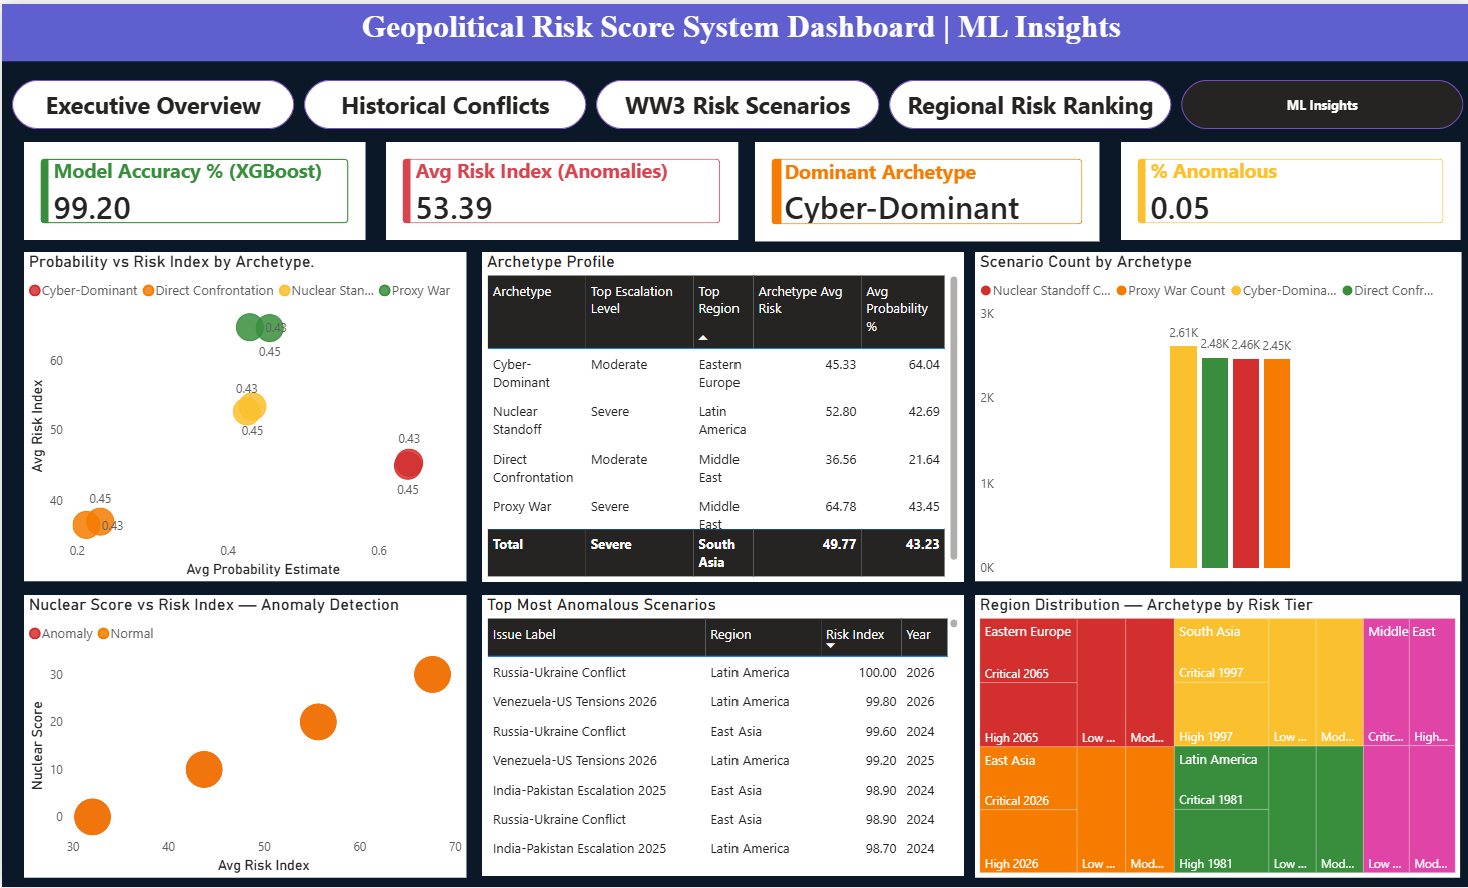

The page's visual inventory and layout, read from the dashboard file:
{"tool":"powerbi","page":{"name":"ML Insights","canvas":[1500,900],"ordinal":4},"visuals":[{"type":"textbox","box":[0,0,1500,58.6],"z":0},{"type":"scatterChart","title":"Probability vs Risk Index by Archetype.","fields":{"X":["_Measure.Avg Probability Estimate"],"Y":["_Measure.Avg Risk Index"],"Category":["DimRegionalRisk.avg_probability"],"Series":["FactRisk.archetype"]},"box":[21.7,253.3,451.7,335],"z":1000},{"type":"clusteredColumnChart","title":"Scenario Count by Archetype","fields":{"Y":["_Measure.Nuclear Standoff Count","_Measure.Proxy War Count","_Measure.Cyber-Dominant Count","_Measure.Direct Confrontation Count"]},"box":[991.7,253.3,496.7,335],"z":2000},{"type":"tableEx","title":"Archetype Profile","fields":{"Values":["FactRisk.archetype","DimRegionalRisk.Top Escalation Level","DimRegionalRisk.Top Region","DimRegionalRisk.Archetype Avg Risk","_Measure.Avg Probability %"]},"box":[490,253.3,490,335],"z":3000},{"type":"scatterChart","title":"Nuclear Score vs Risk Index — Anomaly Detection","fields":{"X":["_Measure.Avg Risk Index"],"Series":["FactArchetypes.Anomaly_Label"],"Y":["FactRisk.nuclear_score"]},"box":[21.7,601.7,451.7,288.3],"z":4000},{"type":"tableEx","title":"Top Most Anomalous Scenarios","fields":{"Values":["FactArchetypes.issue_label","FactArchetypes.region","FactArchetypes.risk_index","DimYear.Year"]},"box":[490,601.7,490,286.7],"z":5000},{"type":"treemap","title":"Region Distribution — Archetype by Risk Tier","fields":{"Details":["FactArchetypes.risk_tier"],"Values":["_Measure.Total Scenarios"],"Group":["FactRisk.region"]},"box":[991.7,601.7,495,288.3],"z":6000},{"type":"cardVisual","fields":{"Data":["_Measure.Model Accuracy %"]},"box":[21.7,140,348.3,100],"z":7000},{"type":"cardVisual","fields":{"Data":["_Measure.% Anomalous"]},"box":[1140,140,346.7,100],"z":8000},{"type":"cardVisual","fields":{"Data":["_Measure.Dominant Archetype"]},"box":[768.3,140,351.7,101.7],"z":9000},{"type":"cardVisual","fields":{"Data":["_Measure.Avg Risk Index (Anomalies)"]},"box":[391.7,140,358.3,100],"z":10000},{"type":"pageNavigator","box":[10,78.3,1480,50],"z":11000}]}

Visuals, with their boxes in screenshot pixels (x1, y1, x2, y2), scaled from the page's 1500x900 canvas onto the 1468x888 screenshot:
textbox: [0, 0, 1467, 58]
"Probability vs Risk Index by Archetype." scatterChart: [21, 250, 463, 580]
"Scenario Count by Archetype" clusteredColumnChart: [971, 250, 1457, 580]
"Archetype Profile" tableEx: [480, 250, 959, 580]
"Nuclear Score vs Risk Index — Anomaly Detection" scatterChart: [21, 594, 463, 878]
"Top Most Anomalous Scenarios" tableEx: [480, 594, 959, 877]
"Region Distribution — Archetype by Risk Tier" treemap: [971, 594, 1455, 878]
cardVisual - _Measure.Model Accuracy %: [21, 138, 362, 237]
cardVisual - _Measure.% Anomalous: [1116, 138, 1455, 237]
cardVisual - _Measure.Dominant Archetype: [752, 138, 1096, 238]
cardVisual - _Measure.Avg Risk Index (Anomalies): [383, 138, 734, 237]
pageNavigator: [10, 77, 1458, 127]
